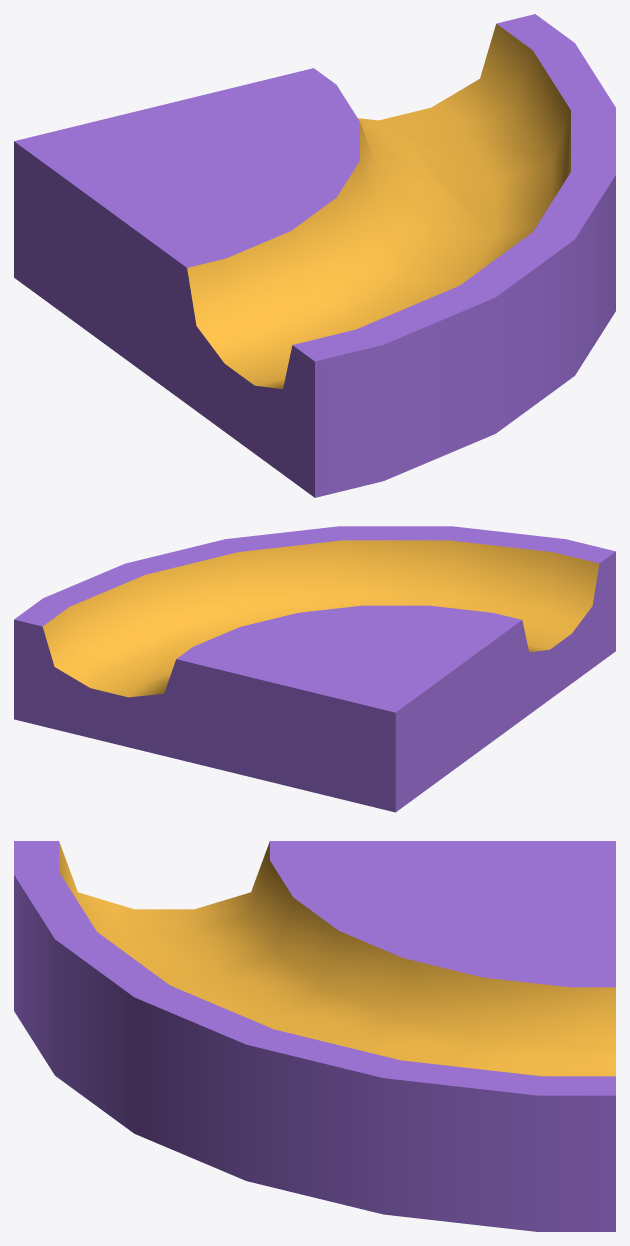
File: curve-solid-col.glb
The picture shows the model from 3 angles, top to bottom: view 1: azimuth 30°, elevation 25°; view 2: azimuth 150°, elevation 25°; view 3: azimuth 270°, elevation 25°; orthographic projection. The views are drawn at different scales.
Parts seen in each view (by area): view 1: curve-solid-col; view 2: curve-solid-col; view 3: curve-solid-col.
Boxes of the visible parts, left/top/right/bottom form: curve-solid-col: left=14, top=14, right=615, bottom=497; curve-solid-col: left=14, top=526, right=615, bottom=812; curve-solid-col: left=14, top=841, right=615, bottom=1231.
Size of the model in its own units: 2 by 0.5 by 2.
1 material, 1 textured.
